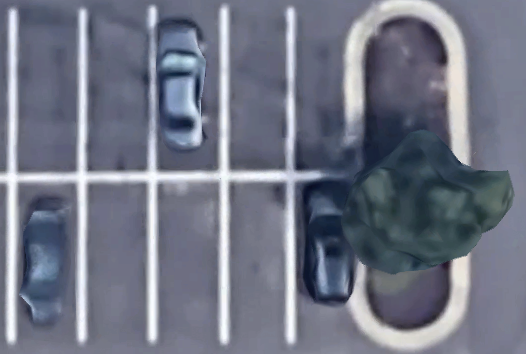Occupied: (152, 7, 224, 174), (13, 176, 82, 343), (291, 176, 357, 342)
Vacant: (152, 175, 224, 342), (82, 7, 153, 175), (13, 8, 82, 177), (83, 177, 153, 342), (291, 7, 357, 176), (224, 7, 290, 175), (225, 176, 290, 342)
